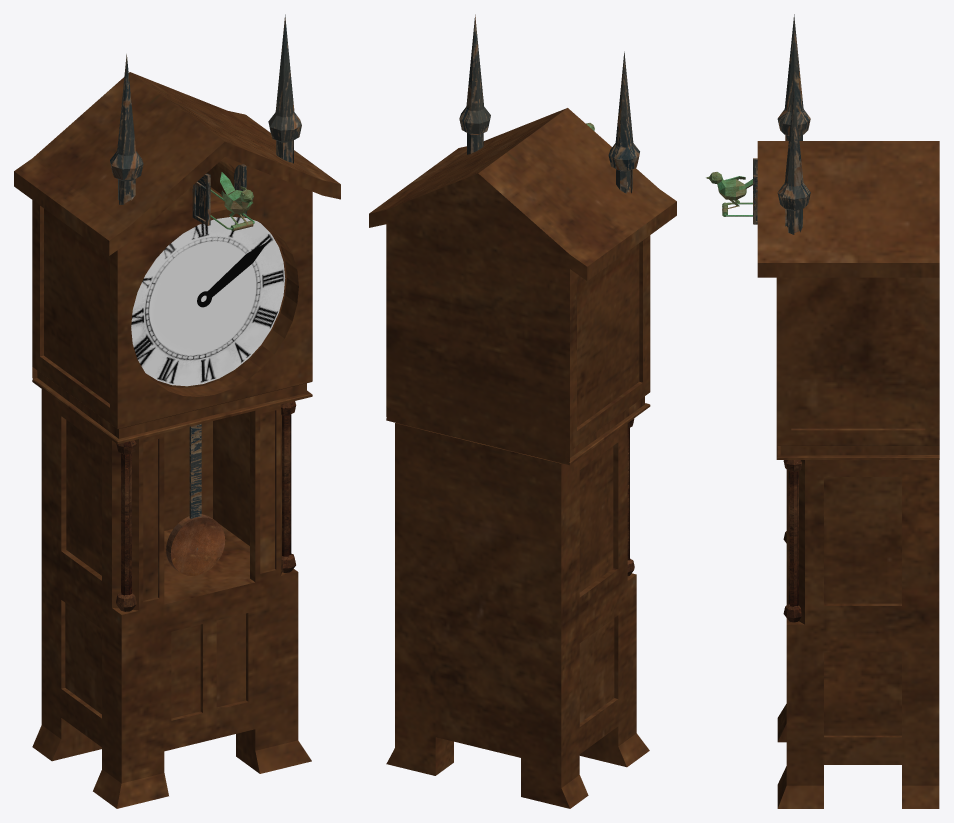
Rendered from GF clock_C2.fbx.
The picture shows the model from 3 angles, left to right: view 1: azimuth 30°, elevation 25°; view 2: azimuth 150°, elevation 25°; view 3: azimuth 270°, elevation 25°; orthographic projection. The views are drawn at different scales.
Parts seen in each view (by area): view 1: Clock body, clock Face, Head dress, Penduam, Side ornament, Bird, clock kata bro, Bird home door_Left; view 2: Clock body, Head dress, Side ornament; view 3: Clock body, Head dress, Side ornament, Bird.
Part boxes in pixels (x1,y1,x2,y2): Clock body: (14, 72, 340, 808); clock Face: (131, 217, 285, 386); Head dress: (110, 14, 301, 204); Penduam: (166, 424, 225, 575); Side ornament: (116, 401, 296, 611); Bird: (210, 172, 254, 231); clock kata bro: (197, 241, 268, 307); Bird home door_Left: (192, 173, 210, 225); Clock body: (369, 108, 676, 808); Head dress: (459, 14, 639, 193); Side ornament: (627, 418, 634, 576); Clock body: (757, 141, 939, 808); Head dress: (777, 14, 810, 234); Side ornament: (783, 460, 801, 622); Bird: (706, 172, 752, 216).
Size of the model in its own units: 0.644 by 1.98 by 0.5894.
